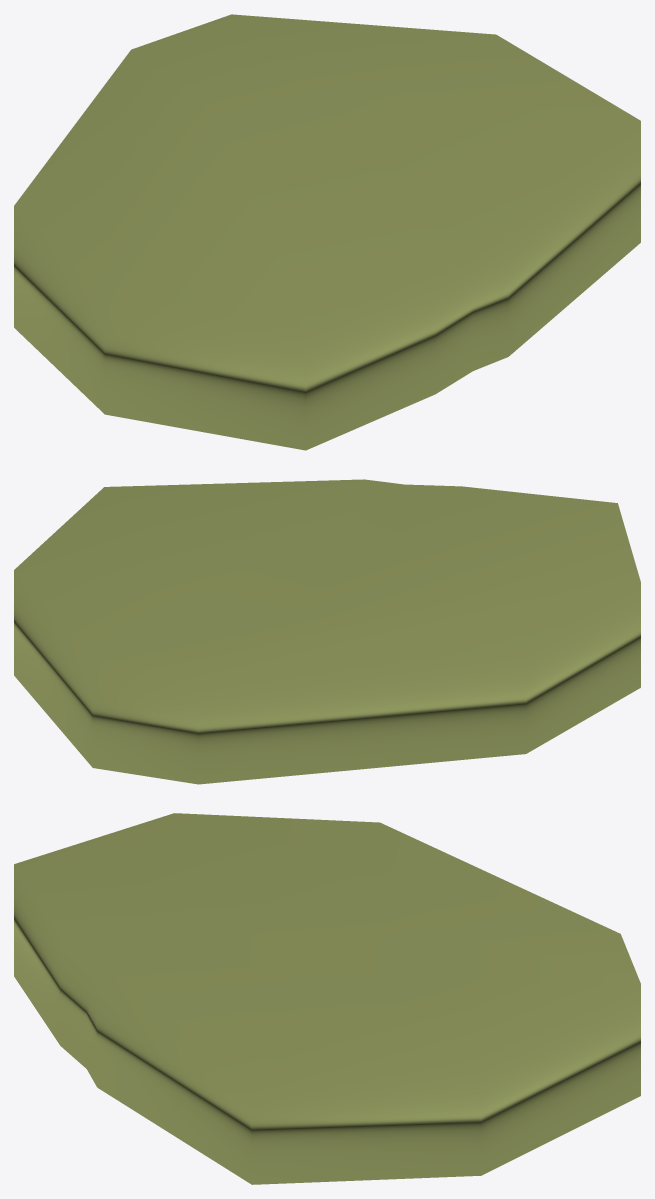
The model's file is rock1.fbx.
The picture shows the model from 3 angles, top to bottom: view 1: azimuth 30°, elevation 25°; view 2: azimuth 150°, elevation 25°; view 3: azimuth 270°, elevation 25°; orthographic projection. The views are drawn at different scales.
Visible parts, largest first — view 1: rock-1; view 2: rock-1; view 3: rock-1.
Boxes of the visible parts, left/top/right/bottom form: rock-1: left=14, top=14, right=640, bottom=450; rock-1: left=14, top=479, right=640, bottom=784; rock-1: left=14, top=813, right=640, bottom=1184.
Bounding box in the file's own units: 56.16 × 11.3 × 57.31.
